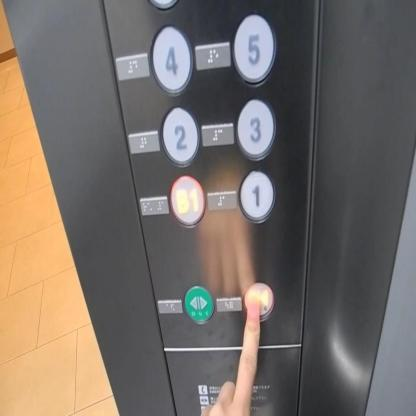1: (238, 170, 275, 222)
2: (161, 106, 199, 165)
3: (236, 96, 275, 159)
4: (150, 25, 192, 93)
5: (233, 13, 273, 82)
B1: (168, 173, 205, 227)
close: (242, 282, 274, 320)
open: (184, 285, 214, 325)
